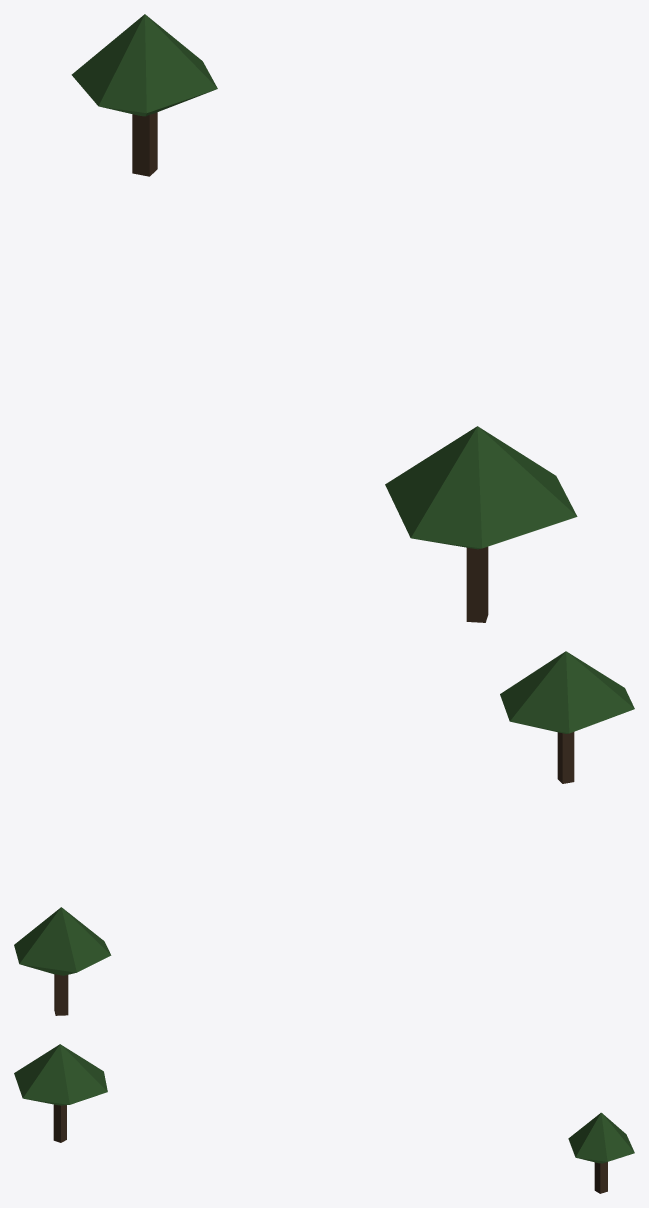
3 renders of one model, top to bottom at view 1: azimuth 30°, elevation 25°; view 2: azimuth 150°, elevation 25°; view 3: azimuth 270°, elevation 25°, orthographic. The views are drawn at different scales.
Parts seen in each view (by area): view 1: Props_Foliage__r0c4, Props_Solid__r0c4-col; view 2: Props_Foliage__r0c4, Props_Solid__r0c4-col; view 3: Props_Foliage__r0c4, Props_Solid__r0c4-col.
Boxes of the visible parts, left/top/right/bottom form: Props_Foliage__r0c4: left=71, top=14, right=577, bottom=549; Props_Solid__r0c4-col: left=132, top=112, right=488, bottom=622; Props_Foliage__r0c4: left=14, top=651, right=634, bottom=975; Props_Solid__r0c4-col: left=54, top=732, right=574, bottom=1015; Props_Foliage__r0c4: left=14, top=1044, right=634, bottom=1163; Props_Solid__r0c4-col: left=53, top=1104, right=607, bottom=1193.
Size of the model in its own units: 9.54 by 4.91 by 28.7.
